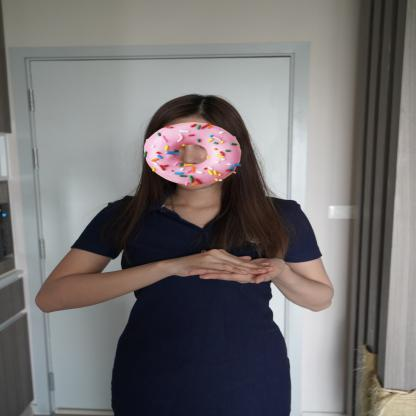Love: (144, 245, 308, 294)
